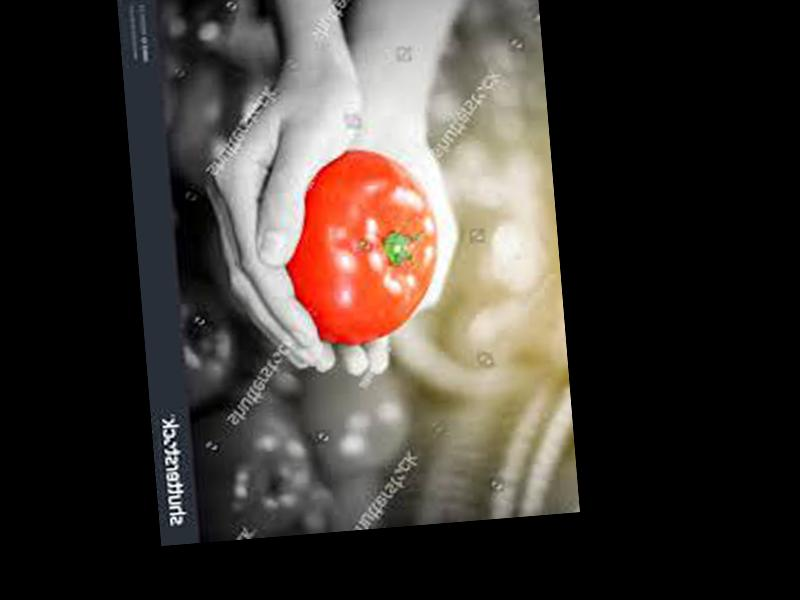Tomato: (278, 144, 444, 348)
